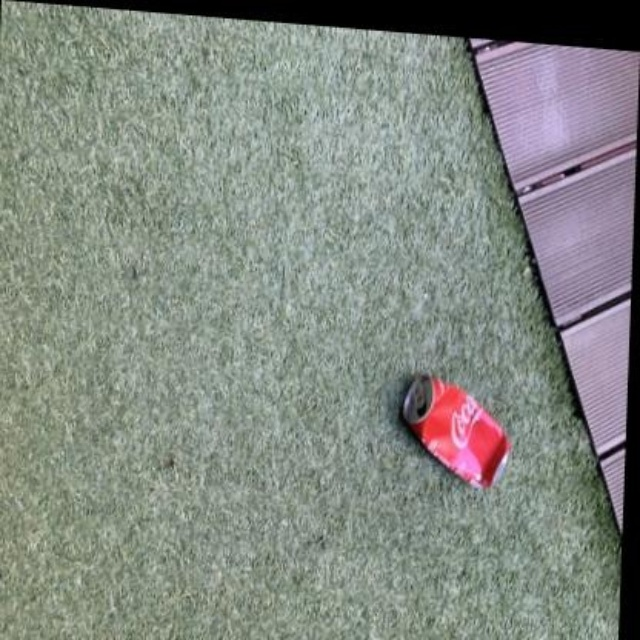trash: (403, 374, 509, 486)
